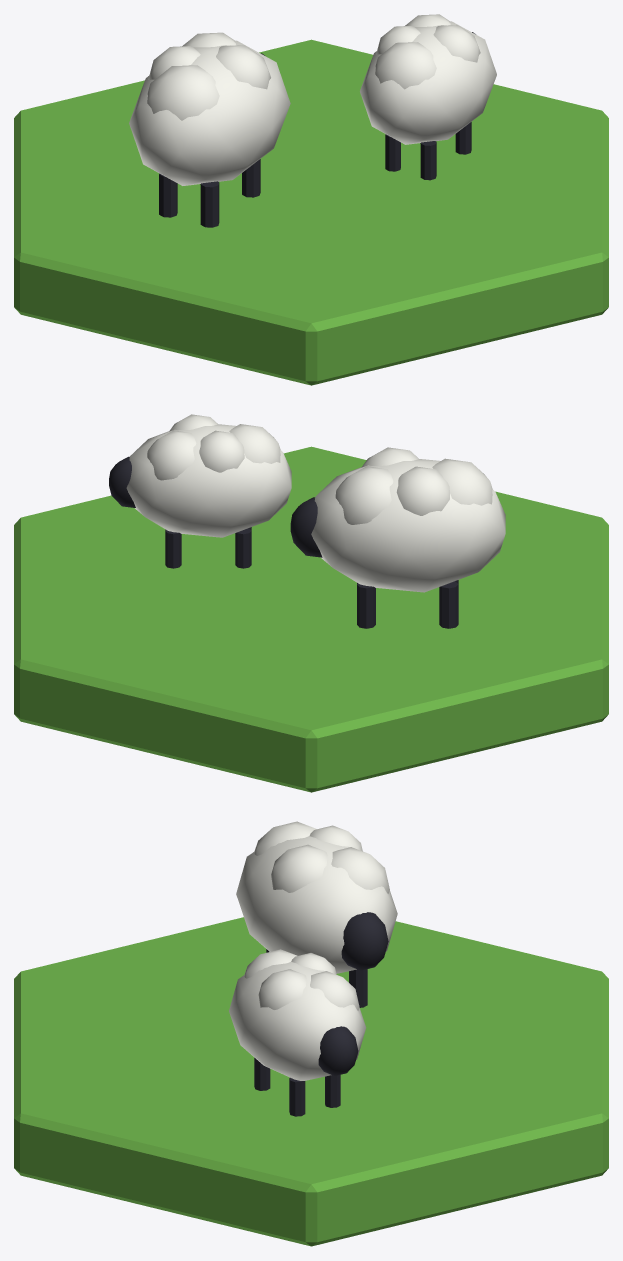
The model's file is sheep.glb.
3 views of the same model, one above another, from view 1: azimuth 30°, elevation 25°; view 2: azimuth 150°, elevation 25°; view 3: azimuth 270°, elevation 25° (orthographic).
Parts seen in each view (by area): view 1: Hex_sheep, Icosphere, Icosphere.006, Icosphere.001, Icosphere.007, Icosphere.003, Icosphere.009, Icosphere.004, Cylinder, Cylinder.001, Icosphere.010, Cylinder.004 (+3 smaller); view 2: Hex_sheep, Icosphere, Icosphere.006, Icosphere.002, Icosphere.004, Icosphere.001, Icosphere.008, Icosphere.010, Icosphere.007, Icosphere.005, Icosphere.011, Cylinder.001 (+4 smaller); view 3: Hex_sheep, Icosphere, Icosphere.006, Icosphere.005, Icosphere.003, Icosphere.002, Icosphere.011, Icosphere.009, Icosphere.008, Icosphere.001, Icosphere.004, Icosphere.007 (+1 smaller).
Boxes of the visible parts, left/top/right/bottom form: Hex_sheep: left=14, top=39, right=608, bottom=385; Icosphere: left=129, top=40, right=290, bottom=185; Icosphere.006: left=360, top=21, right=496, bottom=144; Icosphere.001: left=147, top=65, right=219, bottom=120; Icosphere.007: left=375, top=42, right=436, bottom=89; Icosphere.003: left=216, top=45, right=270, bottom=89; Icosphere.009: left=433, top=25, right=480, bottom=62; Icosphere.004: left=148, top=46, right=200, bottom=79; Cylinder: left=200, top=181, right=219, bottom=227; Cylinder.001: left=159, top=173, right=177, bottom=217; Icosphere.010: left=376, top=25, right=420, bottom=54; Cylinder.004: left=420, top=141, right=436, bottom=180; Hex_sheep: left=14, top=446, right=608, bottom=792; Icosphere: left=311, top=459, right=505, bottom=592; Icosphere.006: left=126, top=424, right=291, bottom=537; Icosphere.002: left=335, top=466, right=393, bottom=524; Icosphere.004: left=396, top=466, right=449, bottom=515; Icosphere.001: left=432, top=458, right=492, bottom=505; Icosphere.008: left=147, top=430, right=196, bottom=480; Icosphere.010: left=199, top=430, right=244, bottom=472; Icosphere.007: left=229, top=424, right=280, bottom=463; Icosphere.005: left=290, top=497, right=322, bottom=557; Icosphere.011: left=109, top=456, right=135, bottom=507; Cylinder.001: left=439, top=581, right=458, bottom=628; Hex_sheep: left=14, top=917, right=608, bottom=1246; Icosphere: left=236, top=836, right=397, bottom=973; Icosphere.006: left=229, top=962, right=366, bottom=1080; Icosphere.005: left=341, top=912, right=388, bottom=970; Icosphere.003: left=271, top=844, right=327, bottom=892; Icosphere.002: left=331, top=847, right=389, bottom=893; Icosphere.011: left=318, top=1026, right=358, bottom=1075; Icosphere.009: left=258, top=969, right=306, bottom=1009; Icosphere.008: left=310, top=971, right=359, bottom=1010; Icosphere.001: left=254, top=821, right=316, bottom=855; Icosphere.004: left=309, top=825, right=362, bottom=851; Icosphere.007: left=244, top=949, right=297, bottom=978.
Bounding box in the file's own units: 1.98 × 0.7 × 1.73.
